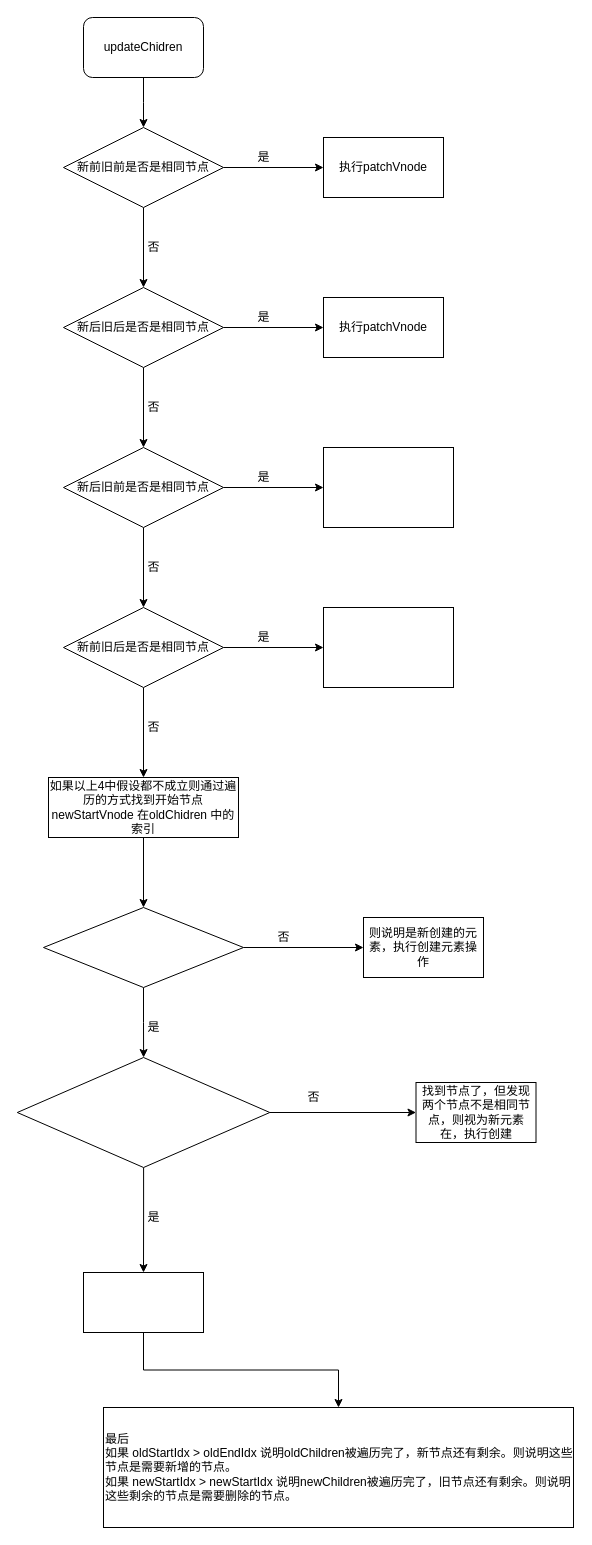
Image size: 592x1545. Some labels were removed from this diagram. Each missing label, with the box of its shape:
1. 执行patchVnode 2. 将当前节点移动到oldChidren所有未处理节点的前面: (322, 606, 454, 688)
1. 执行patchVnode 2. 将当前节点移动到oldChidren所有未处理节点的后面: (322, 446, 454, 528)
oldChildren[idxInOld]和newStartVnode 是否是相同节点？: (16, 1056, 270, 1168)
执行 patchVnode 并且移动节点: (82, 1272, 204, 1332)
通过遍历方式是否找到了在oldChidren对应了索引？: (42, 906, 244, 988)
